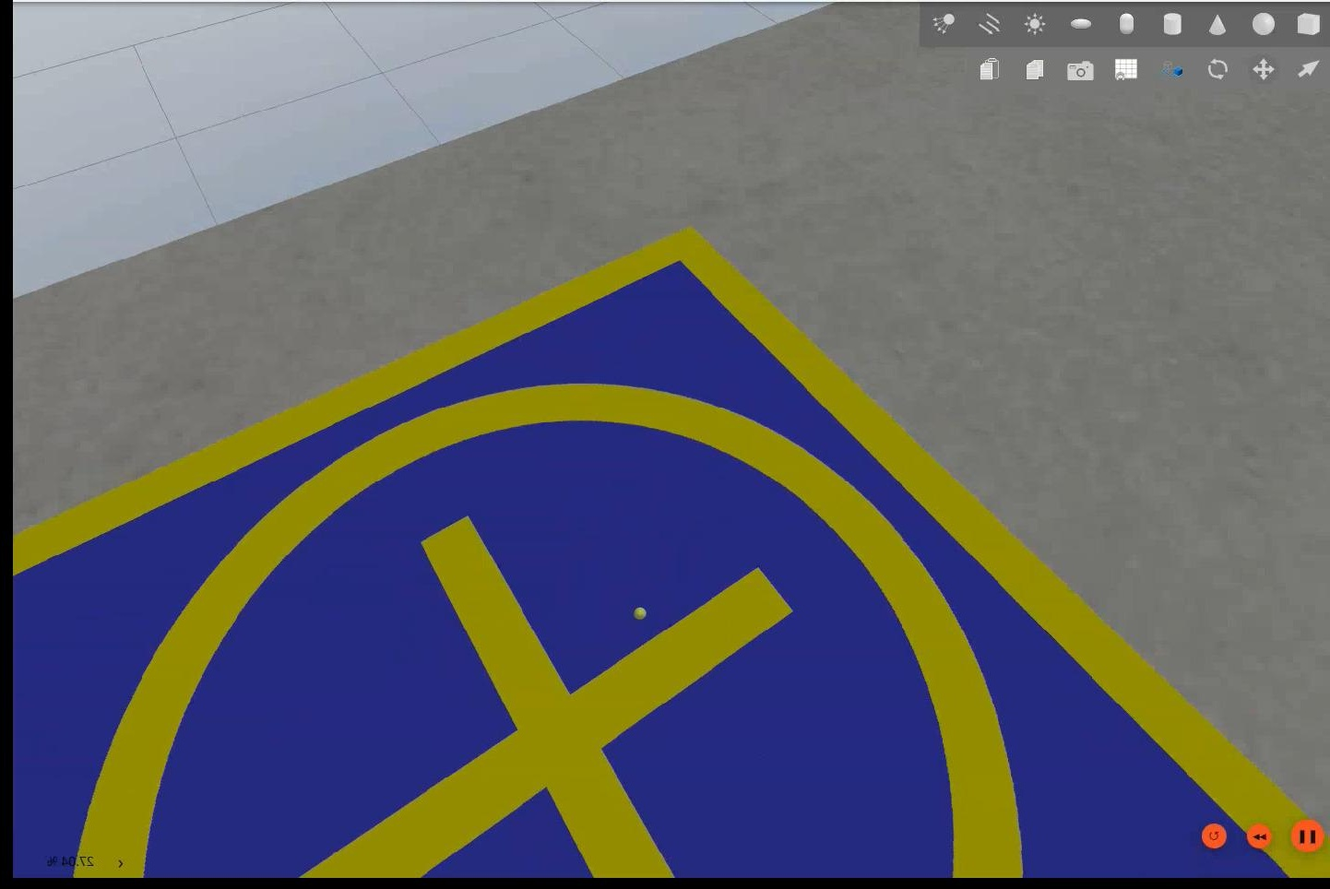small_base: (10, 225, 1328, 879)
